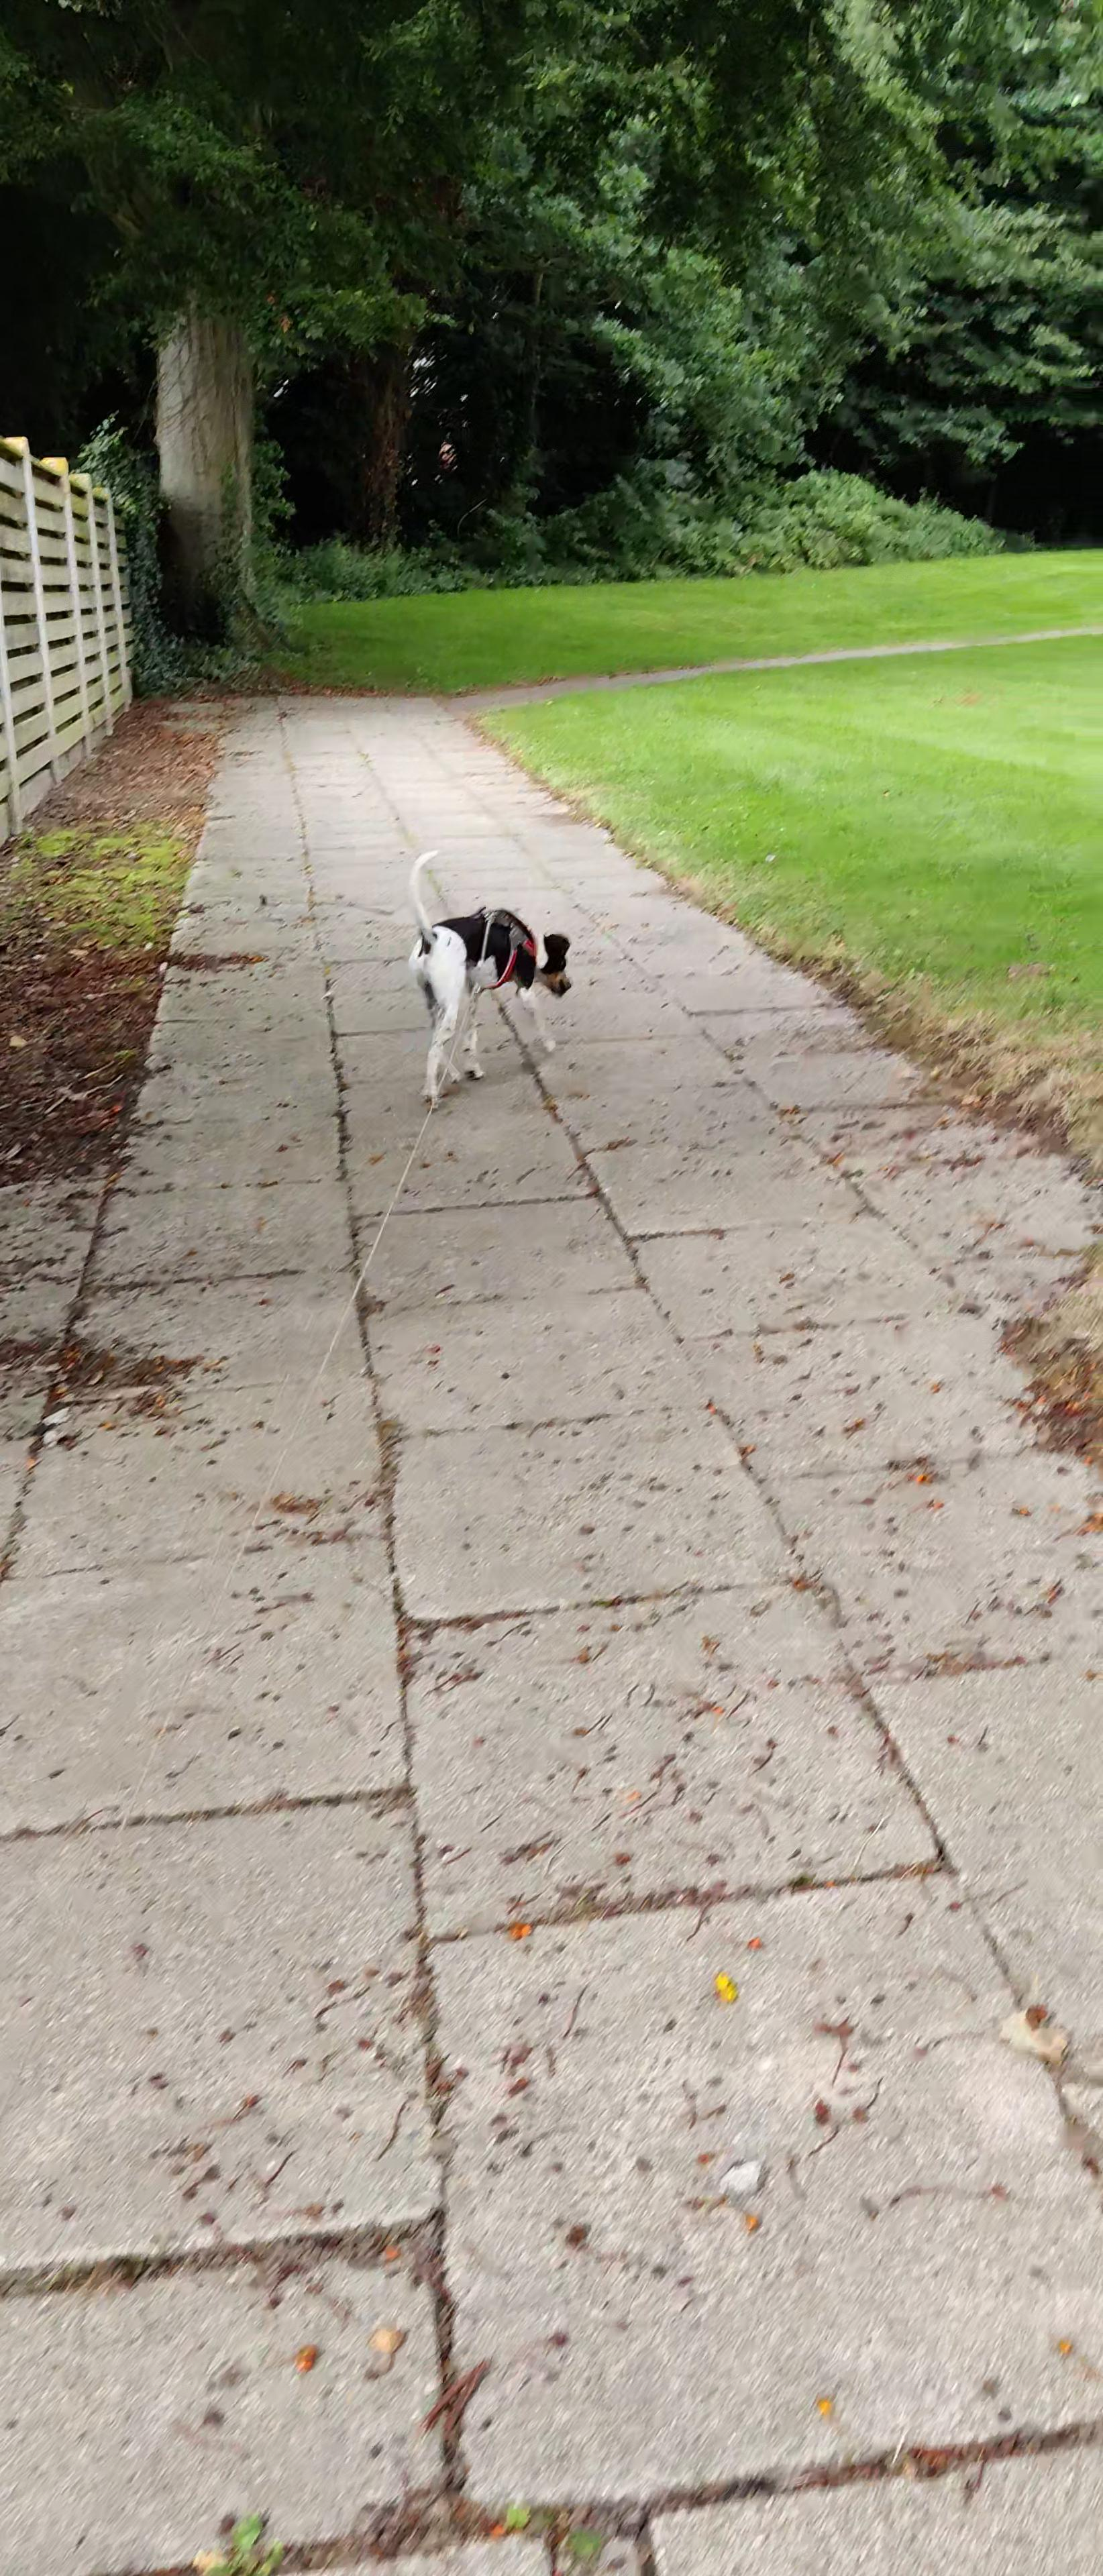Dog: (368, 841, 595, 1124)
